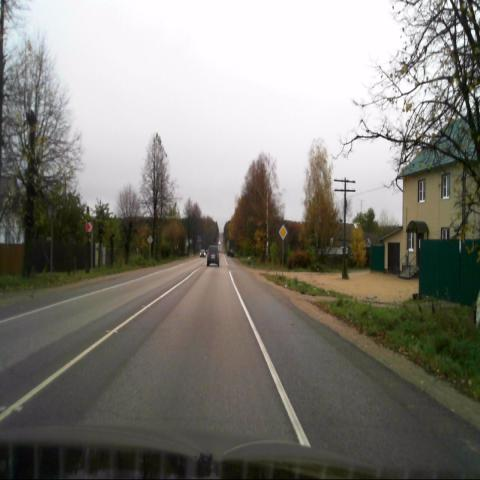2_1: (278, 224, 288, 239)
